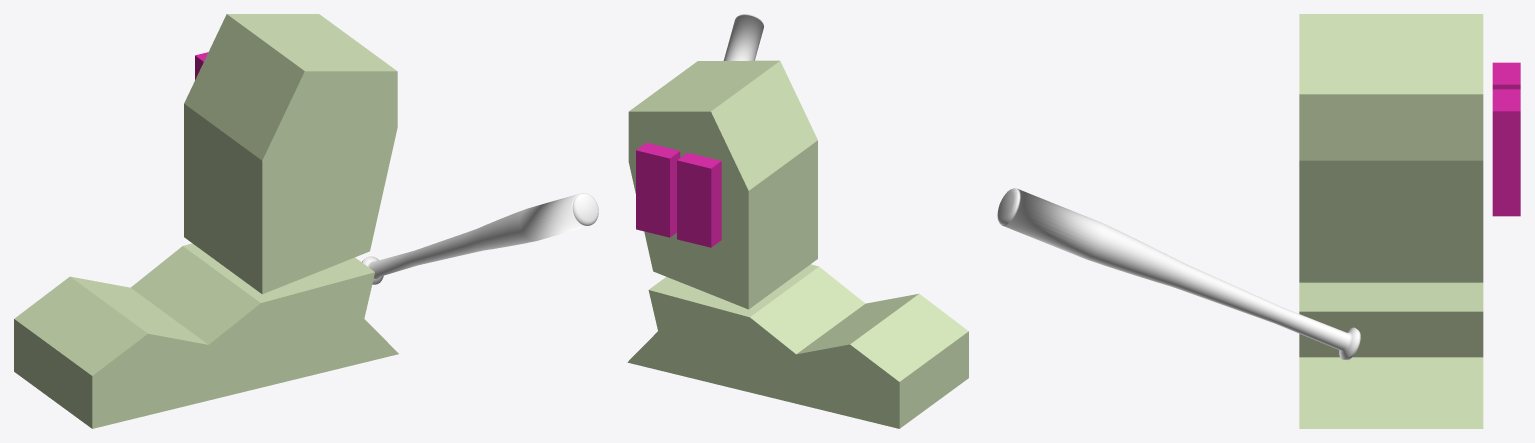
File: worm.glb
3 renders of one model, left to right at view 1: azimuth 30°, elevation 25°; view 2: azimuth 150°, elevation 25°; view 3: azimuth 270°, elevation 25°, orthographic. The views are drawn at different scales.
Parts seen in each view (by area): view 1: worm_head, worm_body, baseballbat; view 2: worm_body, worm_head, eye_right, eye_left, baseballbat; view 3: worm_head, worm_body, baseballbat, eye_left, eye_right.
Boxes of the visible parts, box(x1,y1,x2,y2) form: worm_head: box(184, 14, 397, 294); worm_body: box(14, 243, 398, 428); baseballbat: box(362, 193, 598, 284); worm_body: box(627, 264, 968, 428); worm_head: box(628, 60, 817, 309); eye_right: box(677, 152, 721, 247); eye_left: box(636, 142, 680, 237); baseballbat: box(723, 14, 763, 60); worm_head: box(1299, 14, 1483, 282); worm_body: box(1299, 282, 1483, 428); baseballbat: box(997, 188, 1360, 360); eye_left: box(1492, 89, 1520, 216); eye_right: box(1492, 62, 1520, 89).
Bounding box in the file's own units: 5.68 × 4.32 × 5.68.
